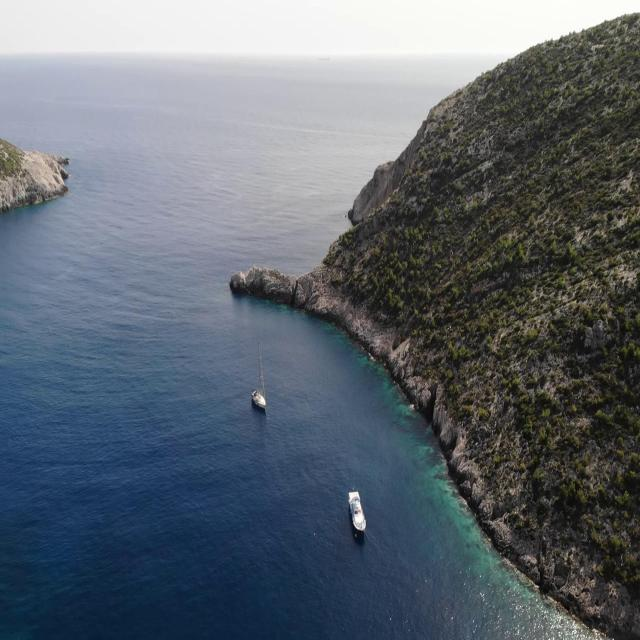boat: (347, 488, 366, 532)
sailboat: (251, 342, 267, 412)
